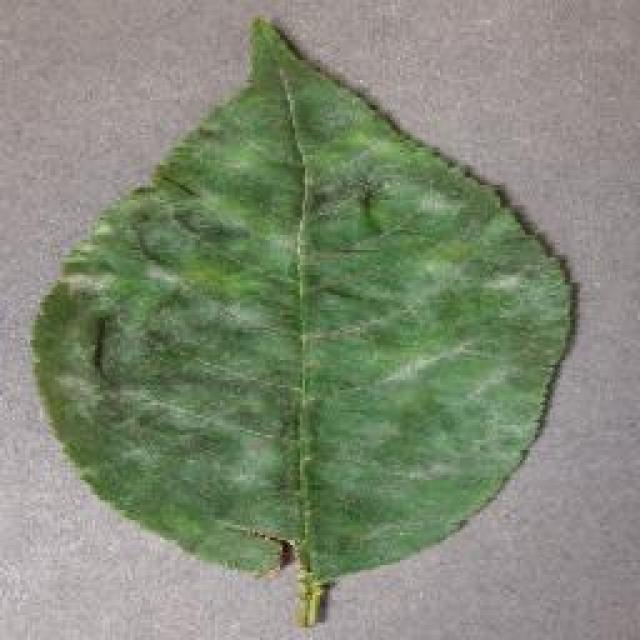Cherry___Powdery_mildew: (15, 5, 590, 637)
